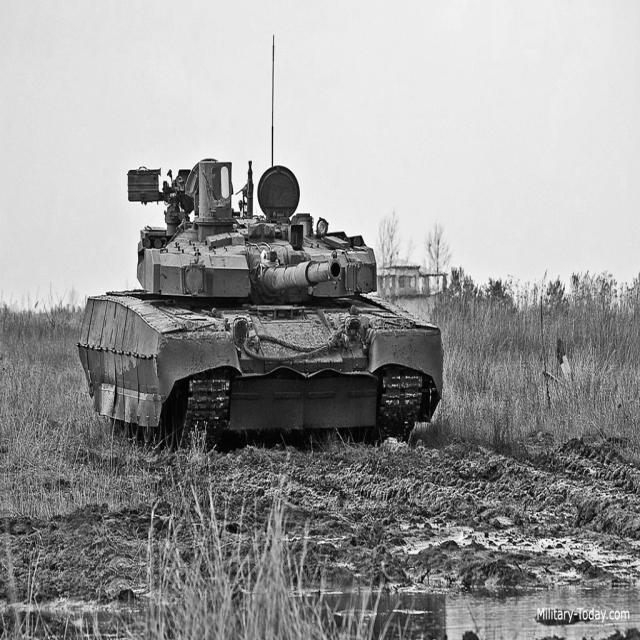Tank: (75, 141, 449, 453)
